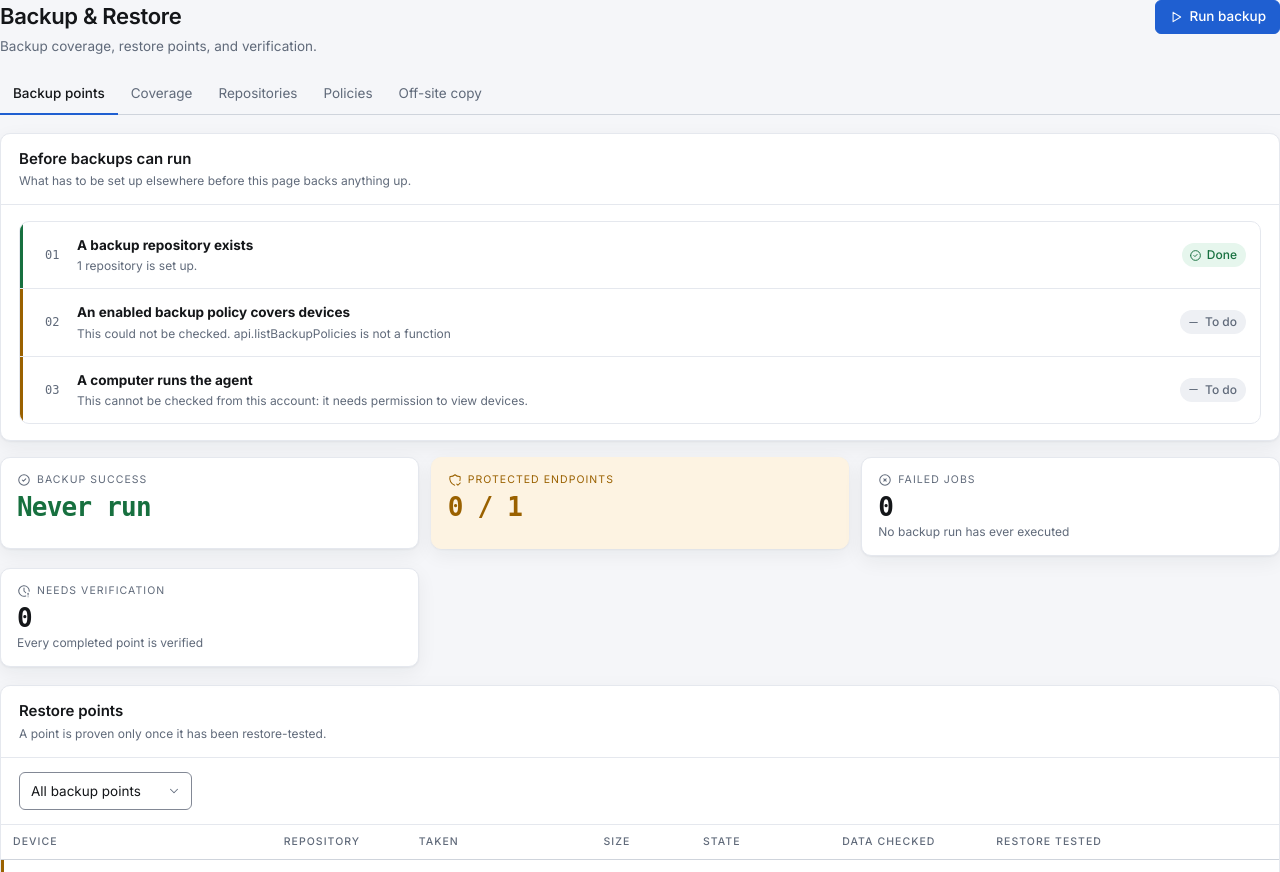
Scenario: BackupPointsPage › says what would fill the device list when it is empty
Click the button "Run backup" at (1218, 17), box [1156,0,1279,34]
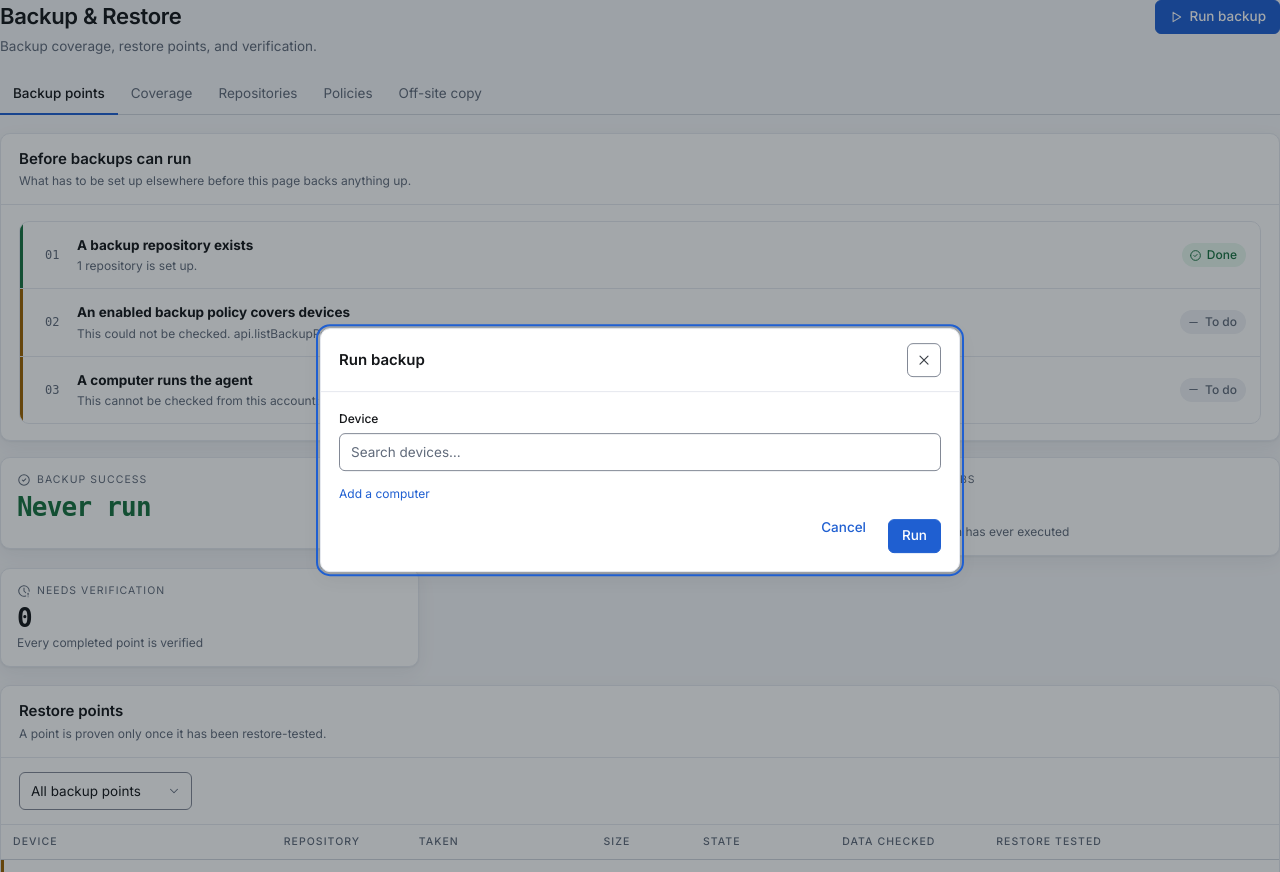
Click the dropdown labelled "Device" at (640, 452), box [339,433,941,471]
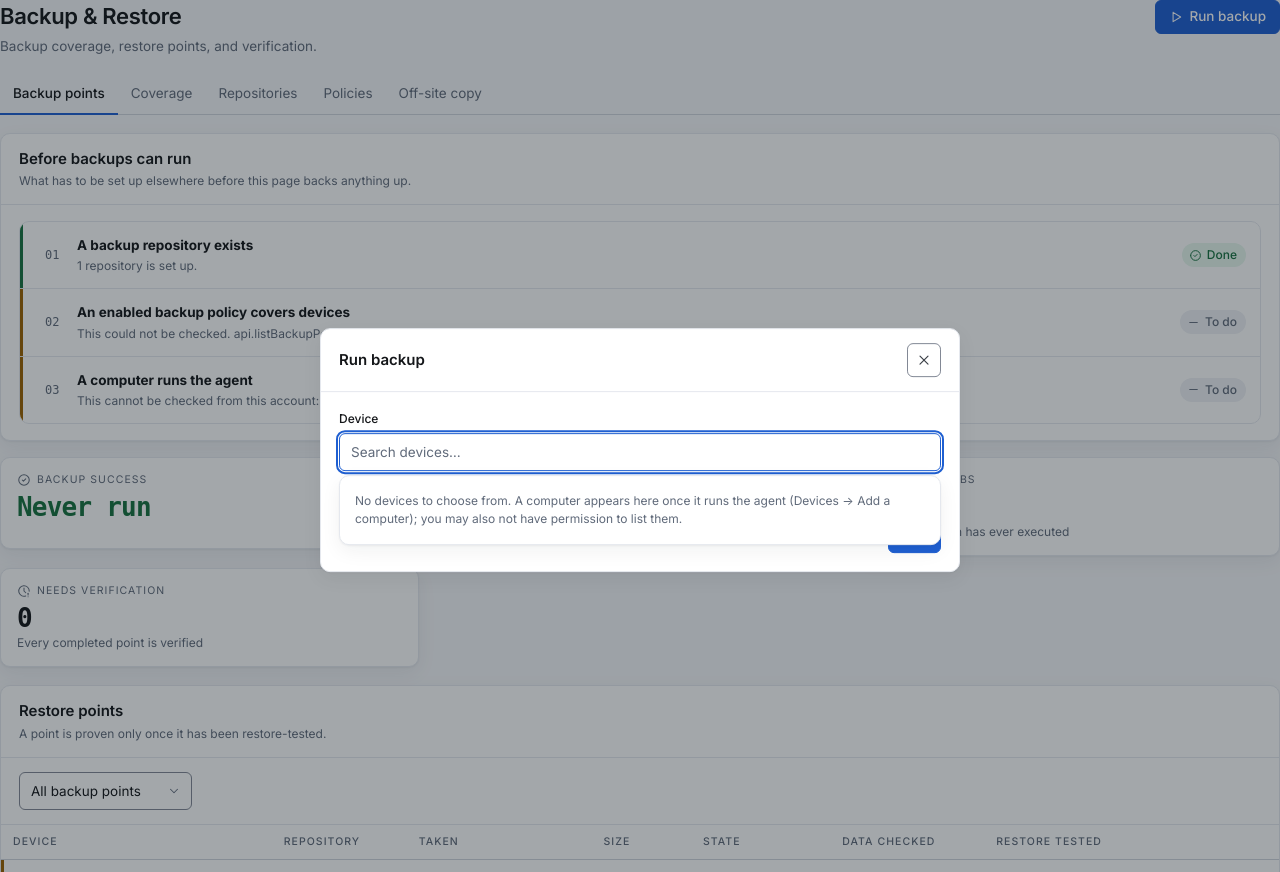
Result: the list item "No devices to choose from." is shown at [355,493,890,526]
